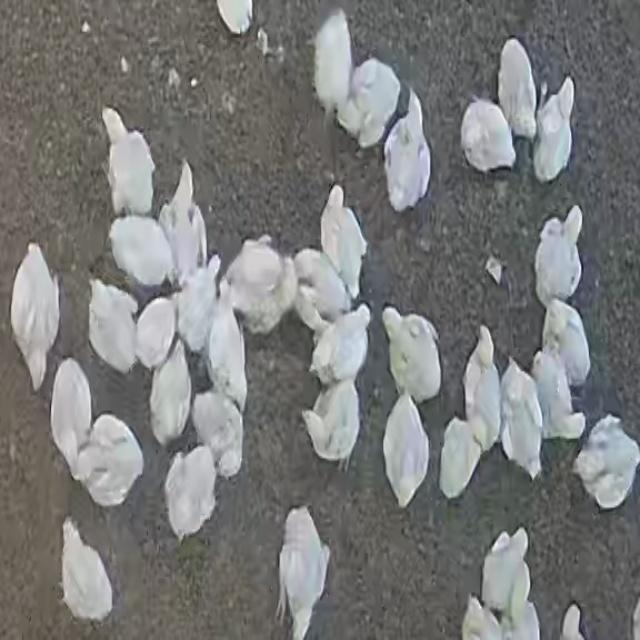chicken: (9, 245, 62, 390), (277, 507, 331, 639), (225, 238, 297, 334), (76, 414, 146, 508), (573, 415, 640, 508), (101, 105, 157, 213), (60, 518, 116, 625), (382, 307, 442, 405), (159, 162, 206, 286), (384, 89, 431, 212), (498, 357, 545, 480), (50, 358, 96, 482), (206, 280, 249, 412), (300, 379, 362, 470), (319, 187, 368, 302), (105, 213, 174, 294), (382, 393, 430, 508), (343, 58, 402, 150), (308, 305, 372, 389), (88, 277, 142, 376), (163, 446, 219, 541), (313, 8, 355, 128), (532, 347, 585, 442), (149, 338, 194, 449), (463, 328, 502, 456), (534, 207, 584, 306), (175, 254, 223, 356), (540, 299, 591, 391), (190, 391, 242, 480), (533, 76, 576, 183), (480, 527, 530, 619), (292, 249, 349, 328), (460, 96, 516, 174), (498, 37, 538, 140), (439, 418, 481, 502), (134, 294, 178, 371), (462, 595, 506, 640)
